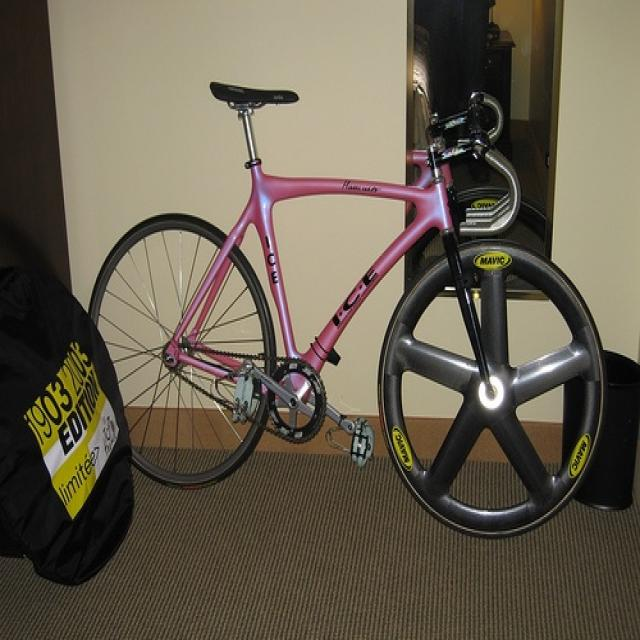bicycle: (88, 82, 607, 539)
